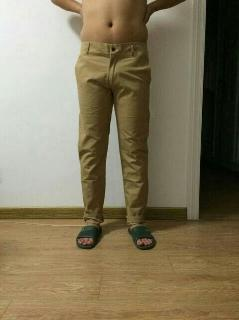trousers: (75, 41, 152, 224)
